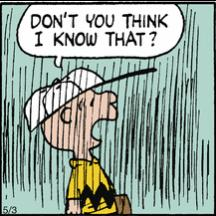charlie: (23, 67, 132, 215)
